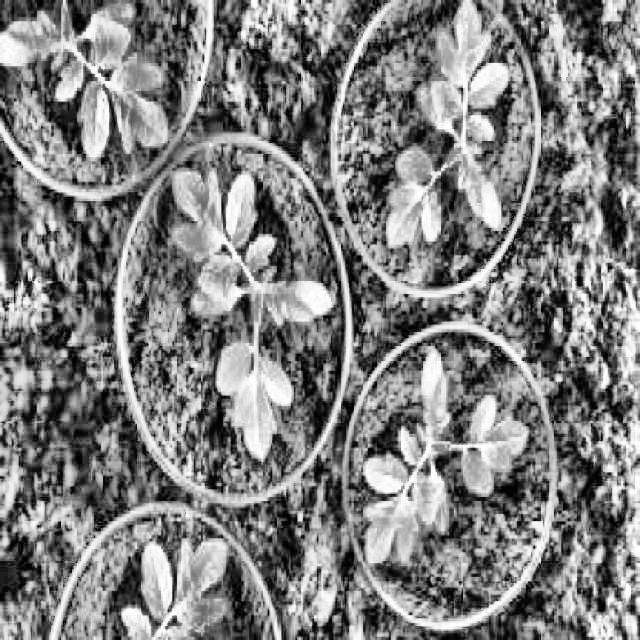plants: (110, 118, 352, 514), (340, 318, 568, 630), (344, 3, 533, 280), (0, 0, 218, 206), (30, 486, 293, 637)
